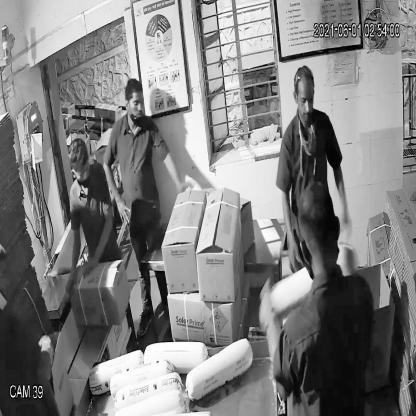no_goggles: (290, 89, 320, 111)
